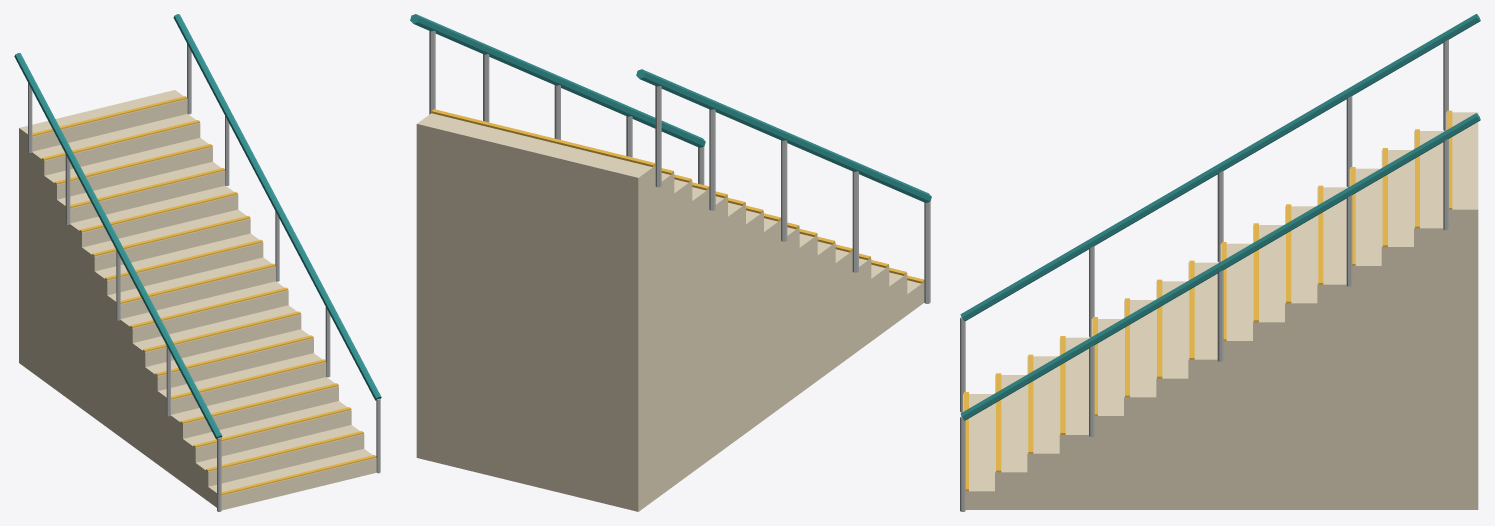
Rendered from stairs.glb.
3 renders of one model, left to right at view 1: azimuth 30°, elevation 25°; view 2: azimuth 150°, elevation 25°; view 3: azimuth 270°, elevation 25°, orthographic. The views are drawn at different scales.
Visible parts, largest first — view 1: transit/stairs; view 2: transit/stairs; view 3: transit/stairs.
Part boxes in pixels (x1,y1,x2,y2): transit/stairs: (14, 14, 381, 511); transit/stairs: (410, 14, 931, 511); transit/stairs: (960, 14, 1480, 511).
Bounding box in the file's own units: 2.11 × 3.81 × 4.53.
